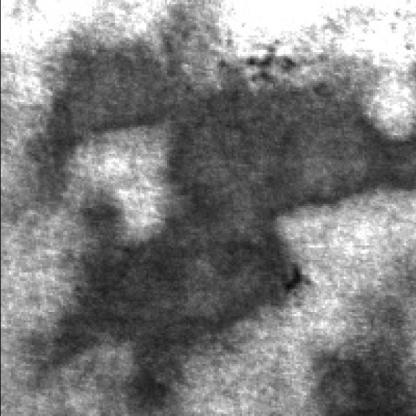patches: (31, 204, 300, 412), (158, 64, 410, 229), (16, 8, 168, 227), (312, 336, 414, 416)
